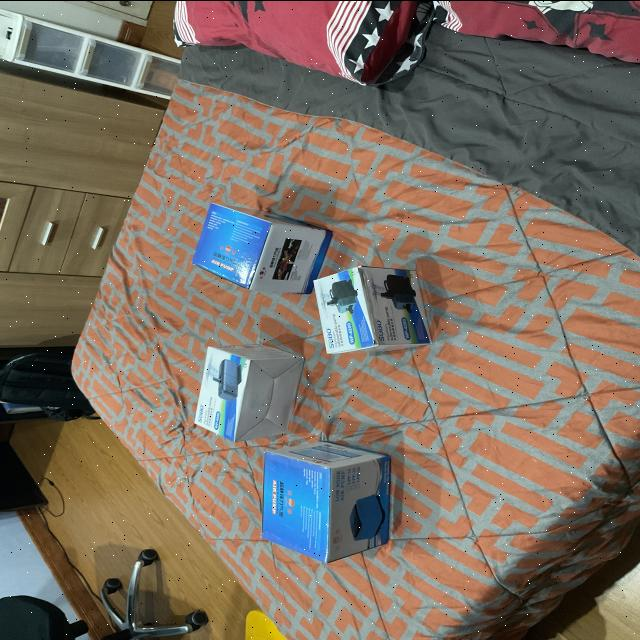SOBO_WP_4200: (178, 334, 302, 446), (316, 248, 441, 358)
YAMANO_LPP_20: (248, 438, 402, 566), (176, 196, 336, 297)
